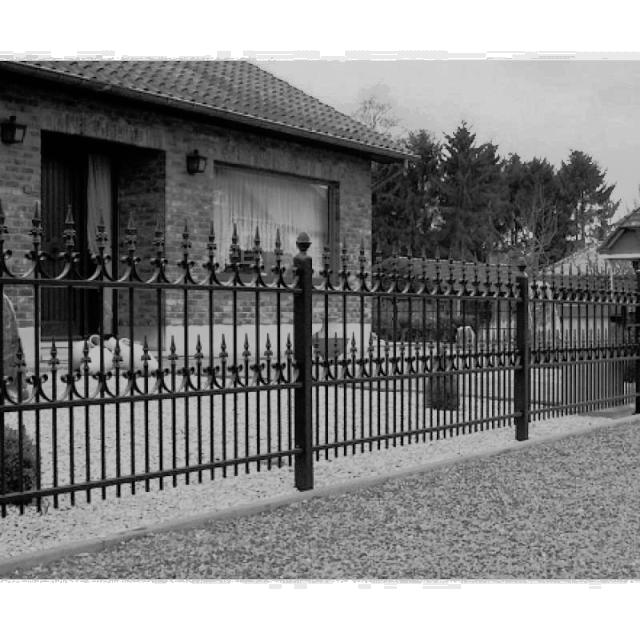fences: (10, 218, 640, 487)
